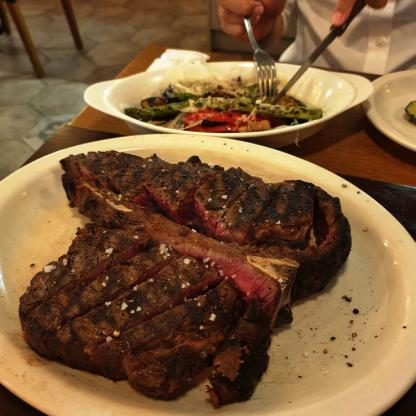Carne: (70, 142, 331, 286), (61, 258, 216, 370), (21, 245, 190, 342), (132, 281, 240, 388), (210, 300, 275, 405)
